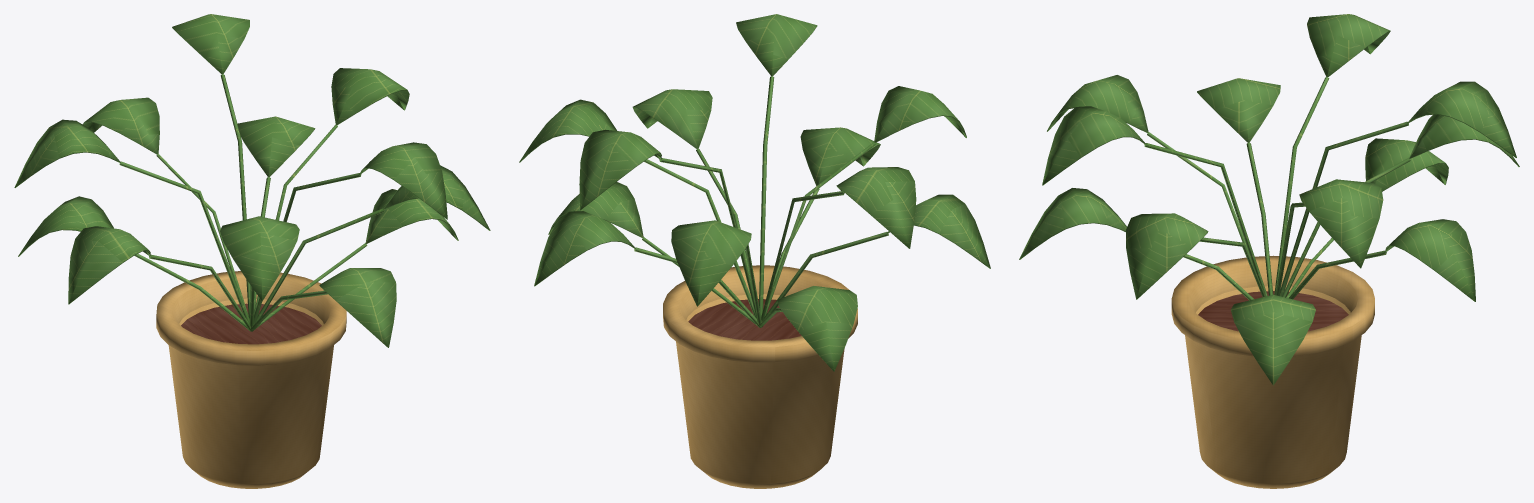
The model's file is V5_PottedPlant.fbx.
3 views of the same model, side by side, from view 1: azimuth 30°, elevation 25°; view 2: azimuth 150°, elevation 25°; view 3: azimuth 270°, elevation 25° (orthographic). The views are drawn at different scales.
Parts seen in each view (by area): view 1: V5_PottedPlant; view 2: V5_PottedPlant; view 3: V5_PottedPlant.
Part boxes in pixels (x1,y1,x2,y2): V5_PottedPlant: [14, 14, 490, 488]; V5_PottedPlant: [519, 14, 990, 488]; V5_PottedPlant: [1019, 14, 1519, 488].
Size of the model in its own units: 0.8966 by 0.779 by 0.8863.
Materials: 1 (1 with a texture image).
